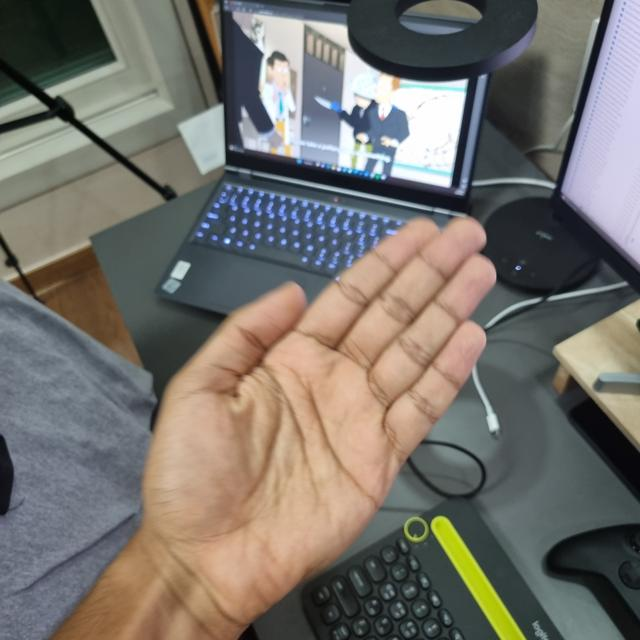Paper: (143, 218, 494, 602)
